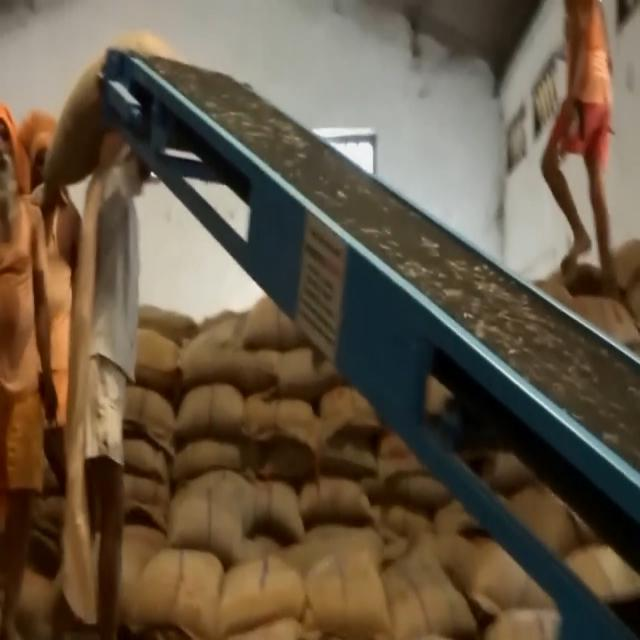gunny_bag: (37, 32, 158, 193)
